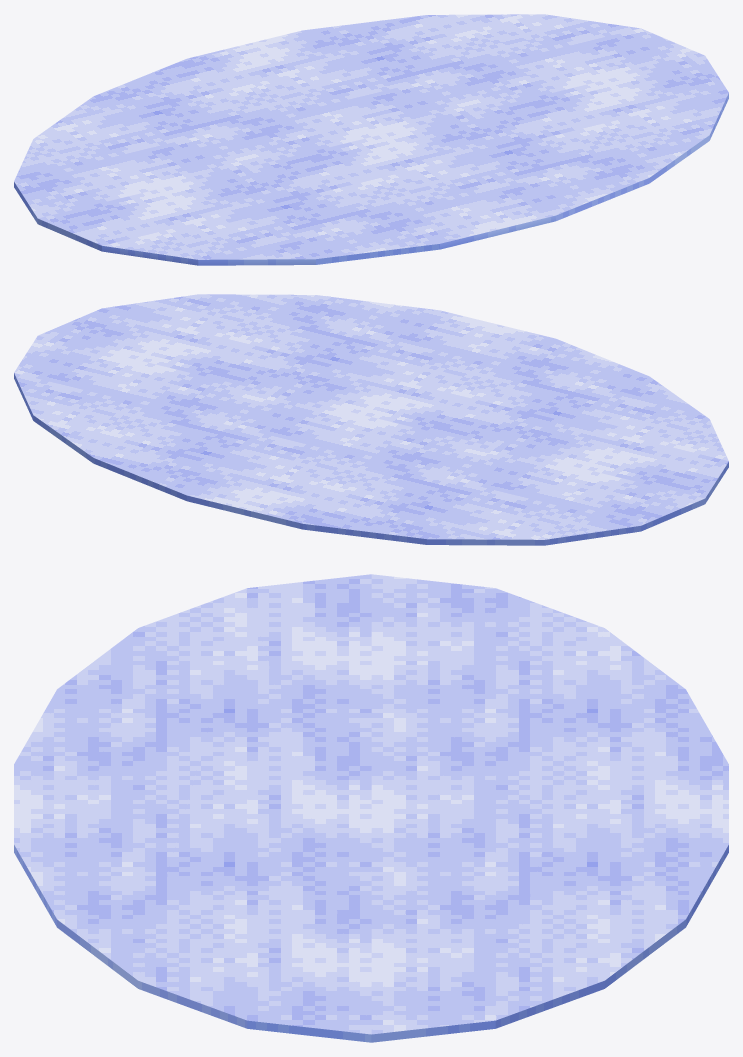
File: rug.glb
The picture shows the model from 3 angles, top to bottom: view 1: azimuth 30°, elevation 25°; view 2: azimuth 150°, elevation 25°; view 3: azimuth 270°, elevation 25°; orthographic projection. The views are drawn at different scales.
Visible parts, largest first — view 1: kit_rug; view 2: kit_rug; view 3: kit_rug.
Boxes of the visible parts, left/top/right/bottom form: kit_rug: left=14, top=14, right=728, bottom=265; kit_rug: left=14, top=294, right=728, bottom=545; kit_rug: left=14, top=574, right=728, bottom=1042.
Size of the model in its own units: 2.4 by 0.02 by 1.58.
Materials: 1 (1 with a texture image).
